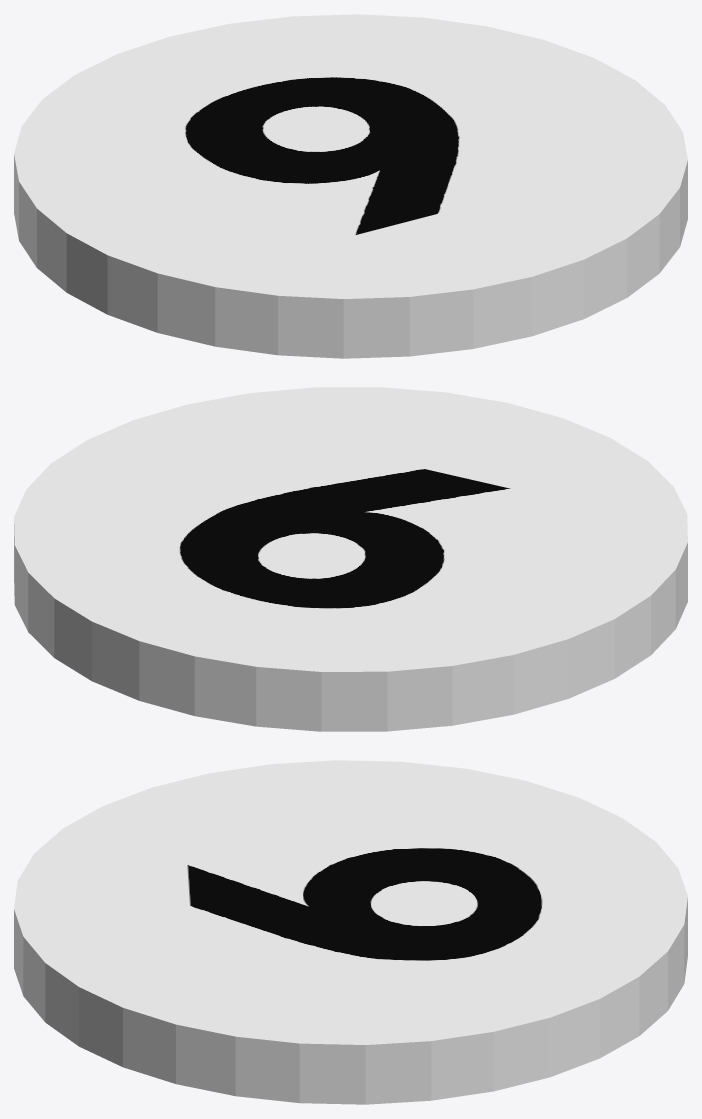
File: Sembilan.fbx
3 renders of one model, top to bottom at view 1: azimuth 30°, elevation 25°; view 2: azimuth 150°, elevation 25°; view 3: azimuth 270°, elevation 25°, orthographic.
Visible parts, largest first — view 1: Cylinder; view 2: Cylinder; view 3: Cylinder.
Part boxes in pixels (box(x1,y1,x2,y2)): Cylinder: box(14, 14, 687, 358); Cylinder: box(14, 387, 687, 731); Cylinder: box(14, 760, 687, 1104).
Size of the model in its own units: 243 by 23.72 by 243.
